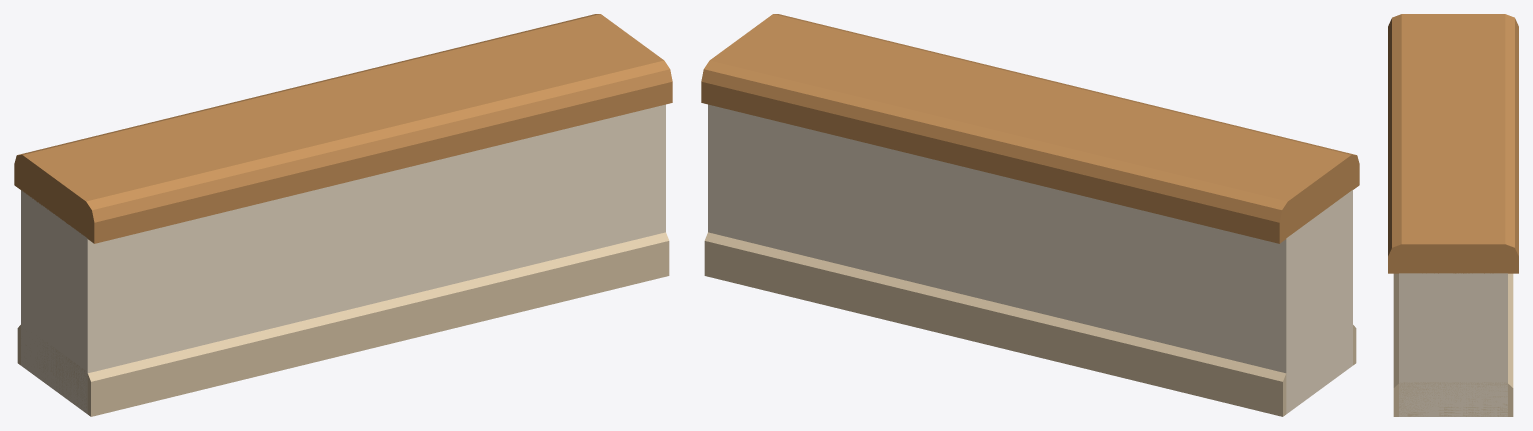
The model's file is wg_wand_sockel.glb.
3 views of the same model, side by side, from view 1: azimuth 30°, elevation 25°; view 2: azimuth 150°, elevation 25°; view 3: azimuth 270°, elevation 25° (orthographic). The views are drawn at different scales.
Visible parts, largest first — view 1: wg_wand_sockel; view 2: wg_wand_sockel; view 3: wg_wand_sockel.
Part boxes in pixels (left/top/right/bottom): wg_wand_sockel: left=14, top=14, right=672, bottom=416; wg_wand_sockel: left=701, top=14, right=1359, bottom=416; wg_wand_sockel: left=1388, top=14, right=1518, bottom=416.
Bounding box in the file's own units: 1 × 0.35 × 0.24.
